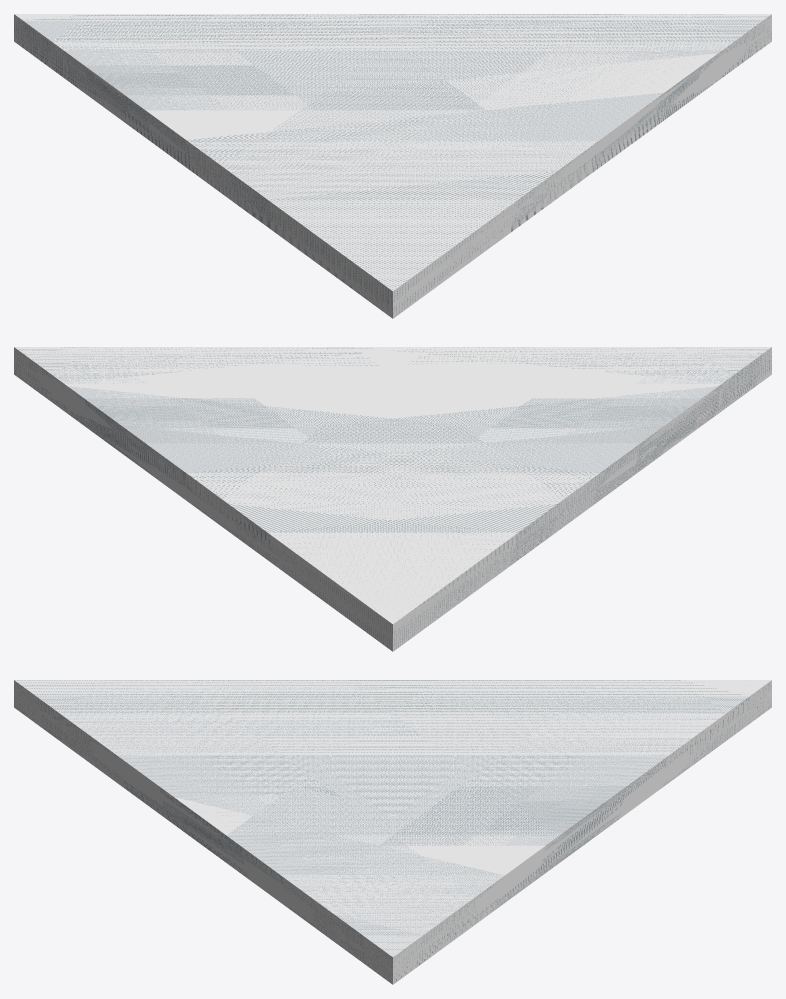
Rendered from triangle 60 deg.fbx.
3 renders of one model, top to bottom at view 1: azimuth 30°, elevation 25°; view 2: azimuth 150°, elevation 25°; view 3: azimuth 270°, elevation 25°, orthographic.
Visible parts, largest first — view 1: Model; view 2: Model; view 3: Model.
Part boxes in pixels (left/top/right/bottom): Model: left=14, top=14, right=771, bottom=318; Model: left=14, top=347, right=771, bottom=651; Model: left=14, top=680, right=771, bottom=984.
Size of the model in its own units: 4.33 by 0.2 by 5.
